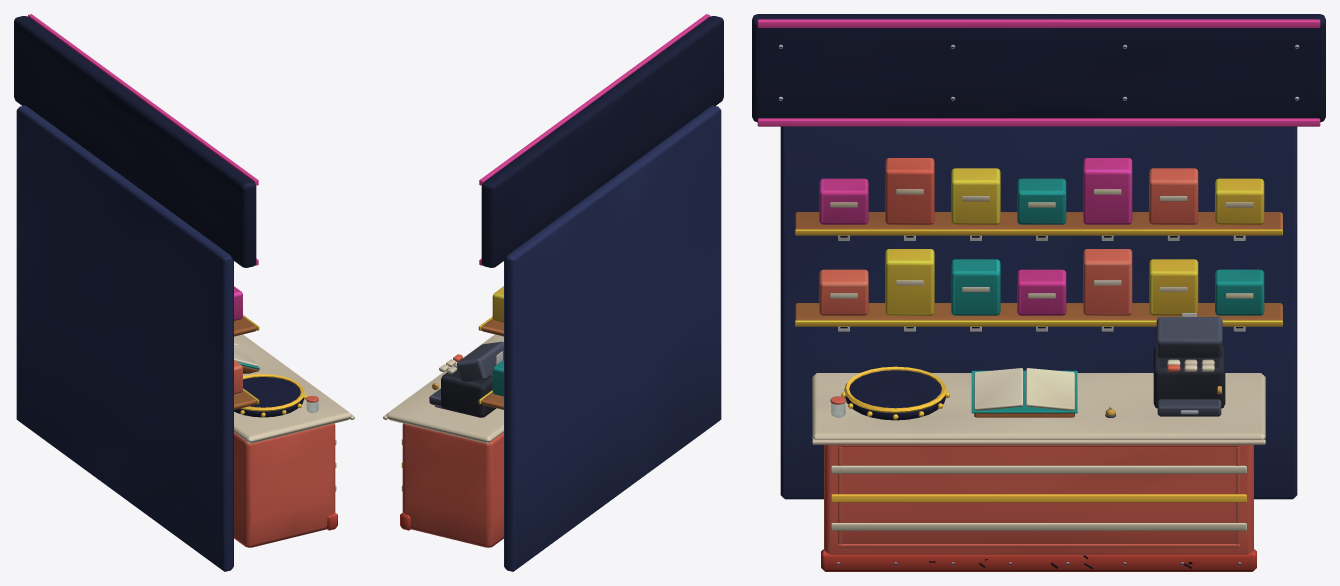
The model's file is SM_Lobby_StudioSupplyCounter.fbx.
3 renders of one model, left to right at view 1: azimuth 30°, elevation 25°; view 2: azimuth 150°, elevation 25°; view 3: azimuth 270°, elevation 25°, orthographic. The views are drawn at different scales.
Parts seen in each view (by area): view 1: SM_Lobby_StudioSupplyCounter; view 2: SM_Lobby_StudioSupplyCounter; view 3: SM_Lobby_StudioSupplyCounter.
Part boxes in pixels (bbox=[...]): SM_Lobby_StudioSupplyCounter: bbox=[14, 14, 354, 571]; SM_Lobby_StudioSupplyCounter: bbox=[383, 14, 723, 571]; SM_Lobby_StudioSupplyCounter: bbox=[752, 14, 1325, 571].
Size of the model in its own units: 144 by 376 by 400.
